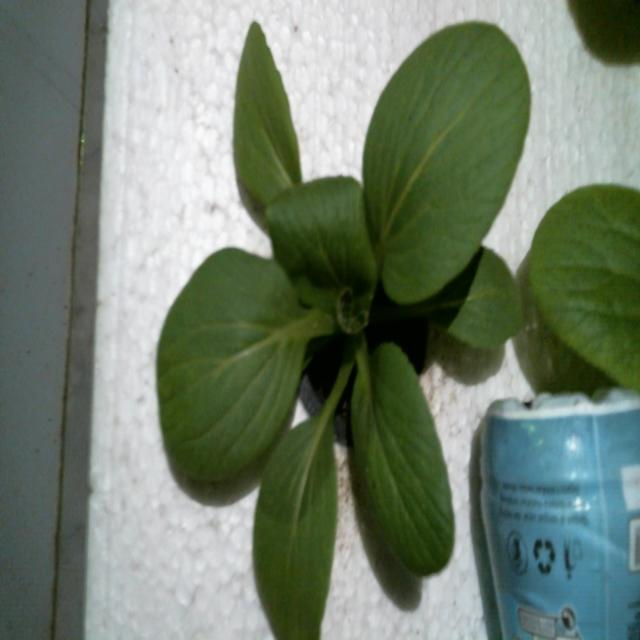pakcoy_sehat: (174, 16, 491, 628)
